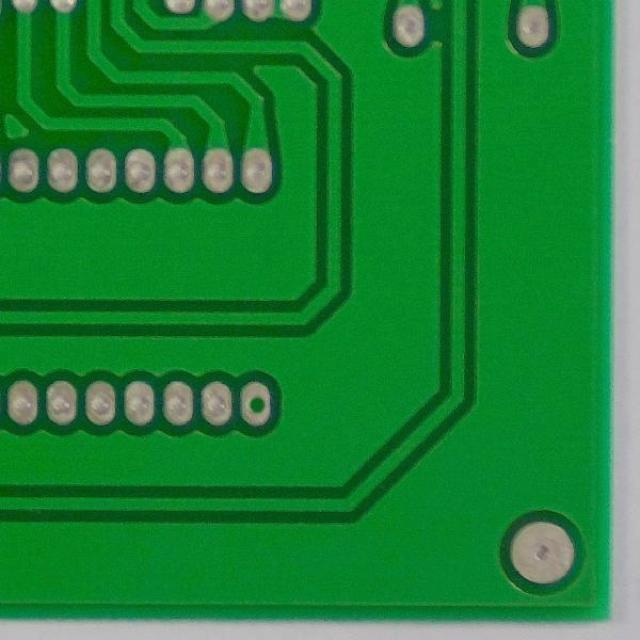Missing_Hole: (232, 378, 280, 428)
